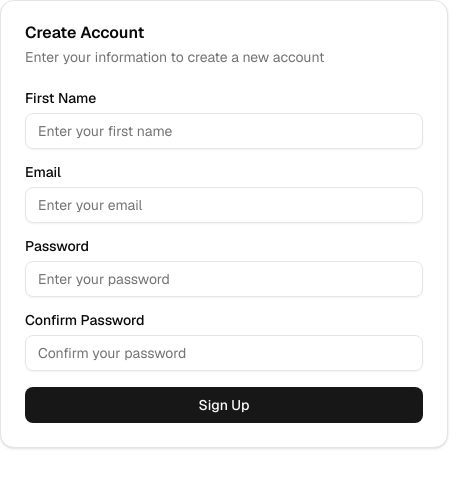
Test: Authentication Flow › SignupForm › should validate password confirmation with Zod
Type "password123" into the password field labelled "Password" at {"x": 224, "y": 279}, box top-left (25, 261), bottom-right (423, 297)
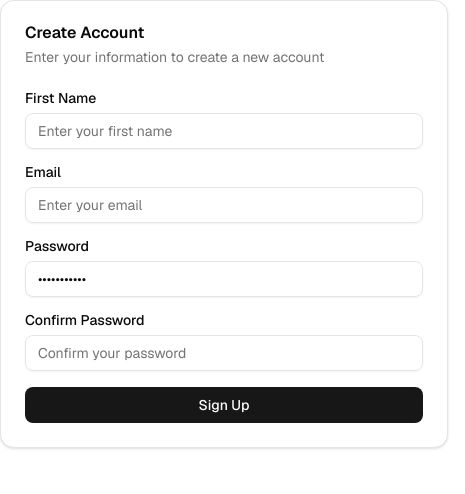
Type "different123" into the password field labelled "Confirm Password" at {"x": 224, "y": 353}, box top-left (25, 335), bottom-right (423, 371)
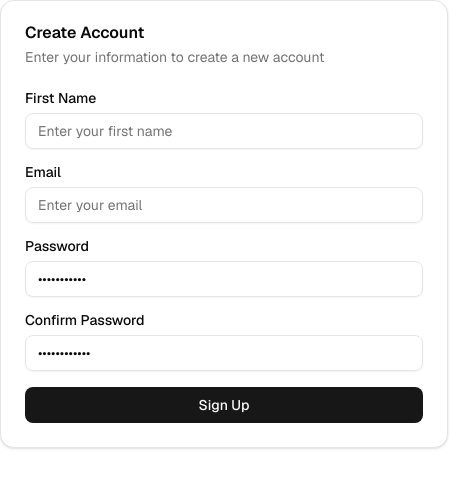
Leave the password field labelled "Confirm Password", box top-left (25, 335), bottom-right (423, 371)
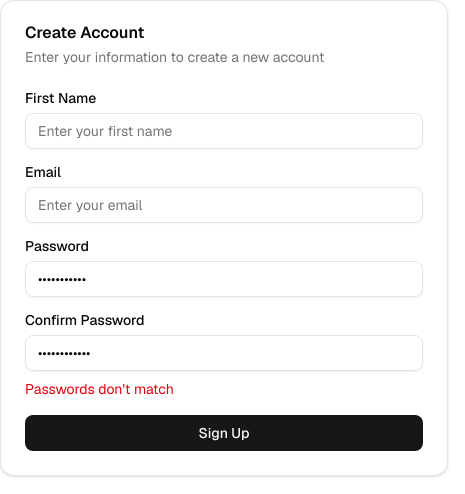
Expected: the text "Passwords don't match" is shown, top-left (25, 380), bottom-right (174, 398)
